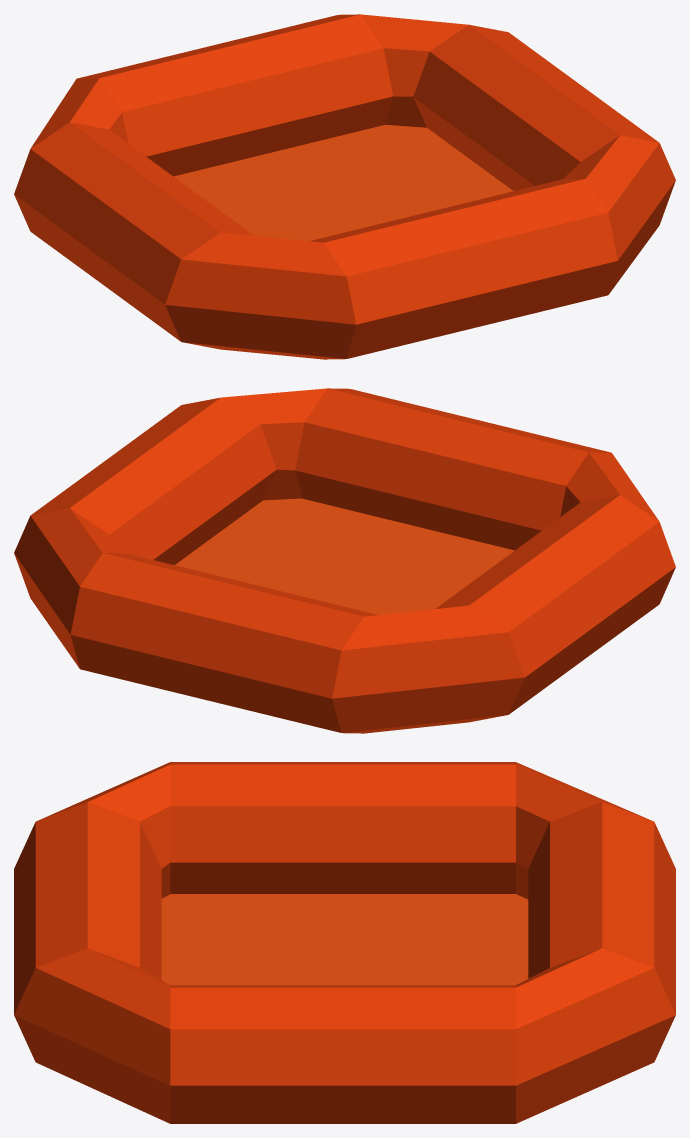
The model's file is balasa.fbx.
3 views of the same model, one above another, from view 1: azimuth 30°, elevation 25°; view 2: azimuth 150°, elevation 25°; view 3: azimuth 270°, elevation 25° (orthographic). The views are drawn at different scales.
Parts seen in each view (by area): view 1: Cylinder, Cube; view 2: Cylinder, Cube; view 3: Cylinder, Cube.
Boxes of the visible parts, x1,y1,x2,y2 form: Cylinder: [14, 14, 675, 359]; Cube: [173, 124, 513, 241]; Cylinder: [14, 388, 675, 733]; Cube: [175, 498, 514, 614]; Cylinder: [14, 762, 675, 1123]; Cube: [161, 894, 528, 985].
Size of the model in its own units: 915 by 200 by 897.
